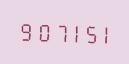five: (78, 20, 92, 44)
nine: (17, 18, 31, 42)
one: (63, 19, 77, 44), (93, 21, 107, 45)
seven: (48, 19, 62, 43)
zero: (32, 18, 46, 43)
